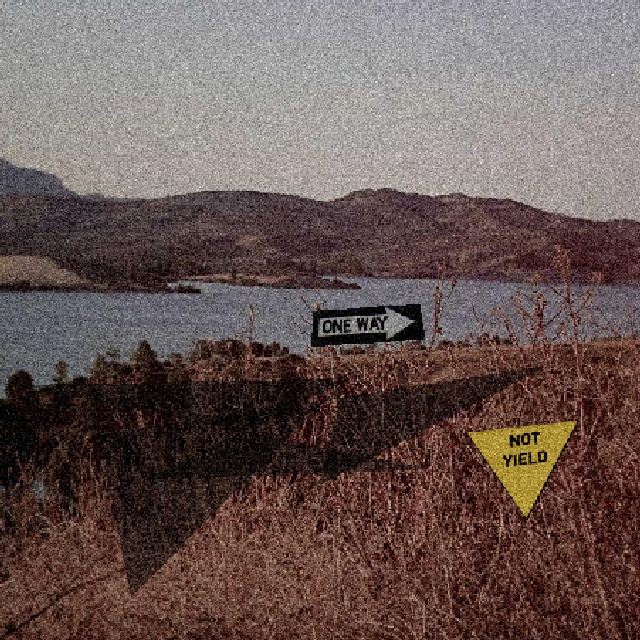NOT_YIELD: (464, 418, 578, 519)
ONE_WAY_ right: (309, 302, 423, 345)
